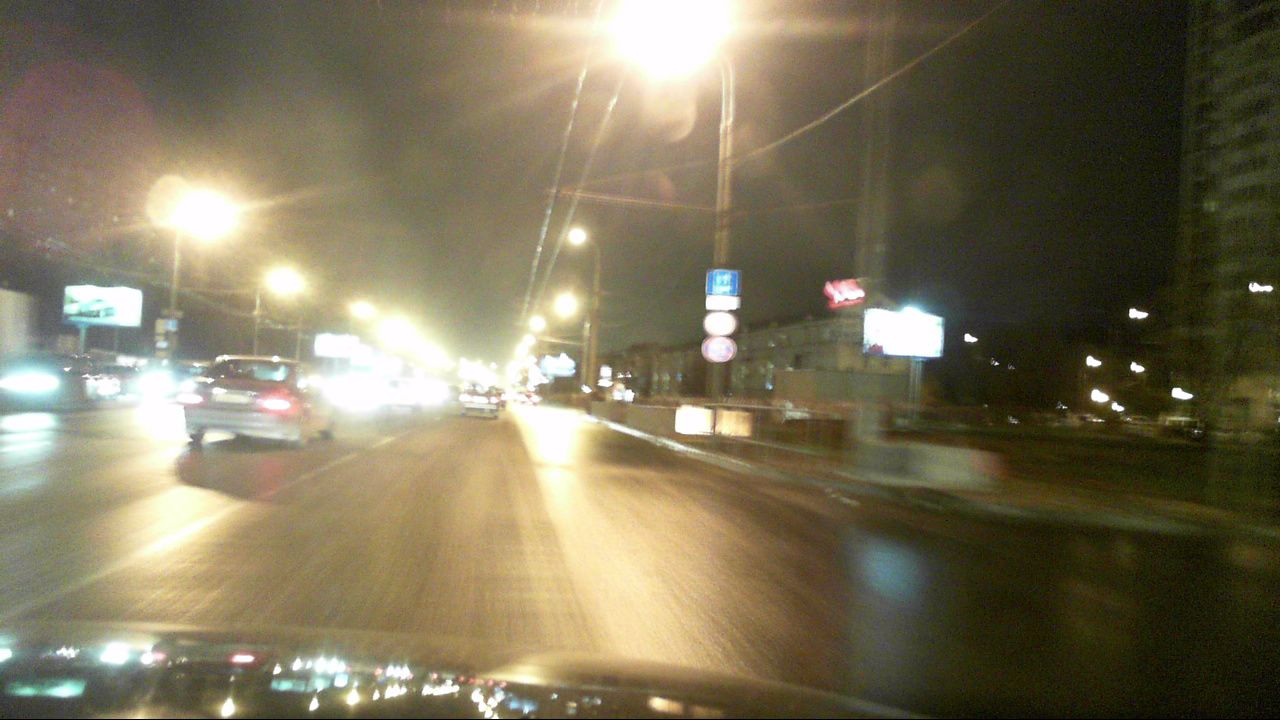No Parking: (705, 337, 734, 363)
